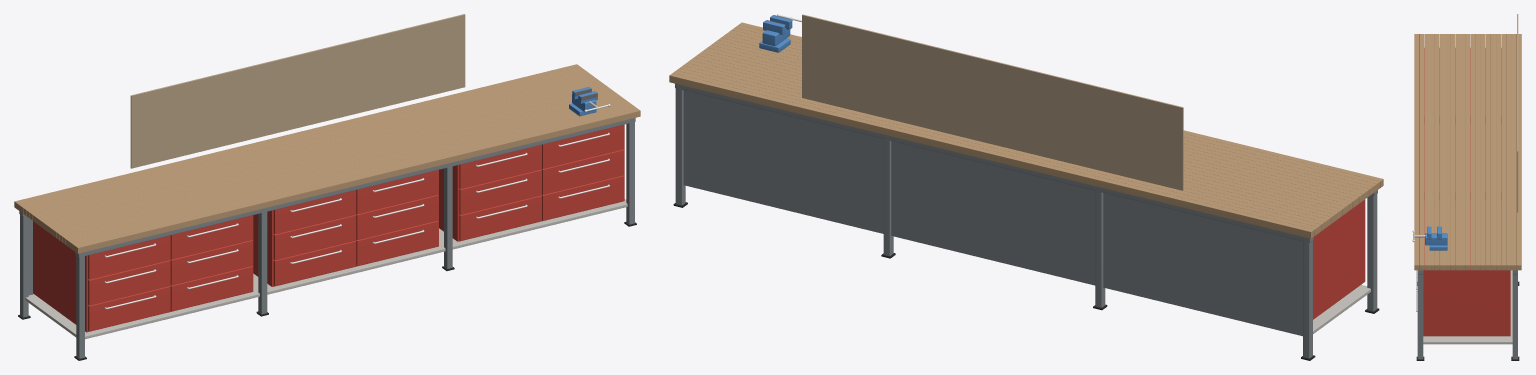
File: shed_workbench.glb
3 views of the same model, side by side, from view 1: azimuth 30°, elevation 25°; view 2: azimuth 150°, elevation 25°; view 3: azimuth 270°, elevation 25° (orthographic). The views are drawn at different scales.
Parts seen in each view (by area): view 1: SM_shed_workbench; view 2: SM_shed_workbench; view 3: SM_shed_workbench.
Part boxes in pixels (left/top/right/bottom): SM_shed_workbench: left=14, top=14, right=640, bottom=360; SM_shed_workbench: left=669, top=14, right=1383, bottom=360; SM_shed_workbench: left=1412, top=14, right=1521, bottom=360.
Bounding box in the file's own units: 4.85 × 1.6 × 0.9656.
